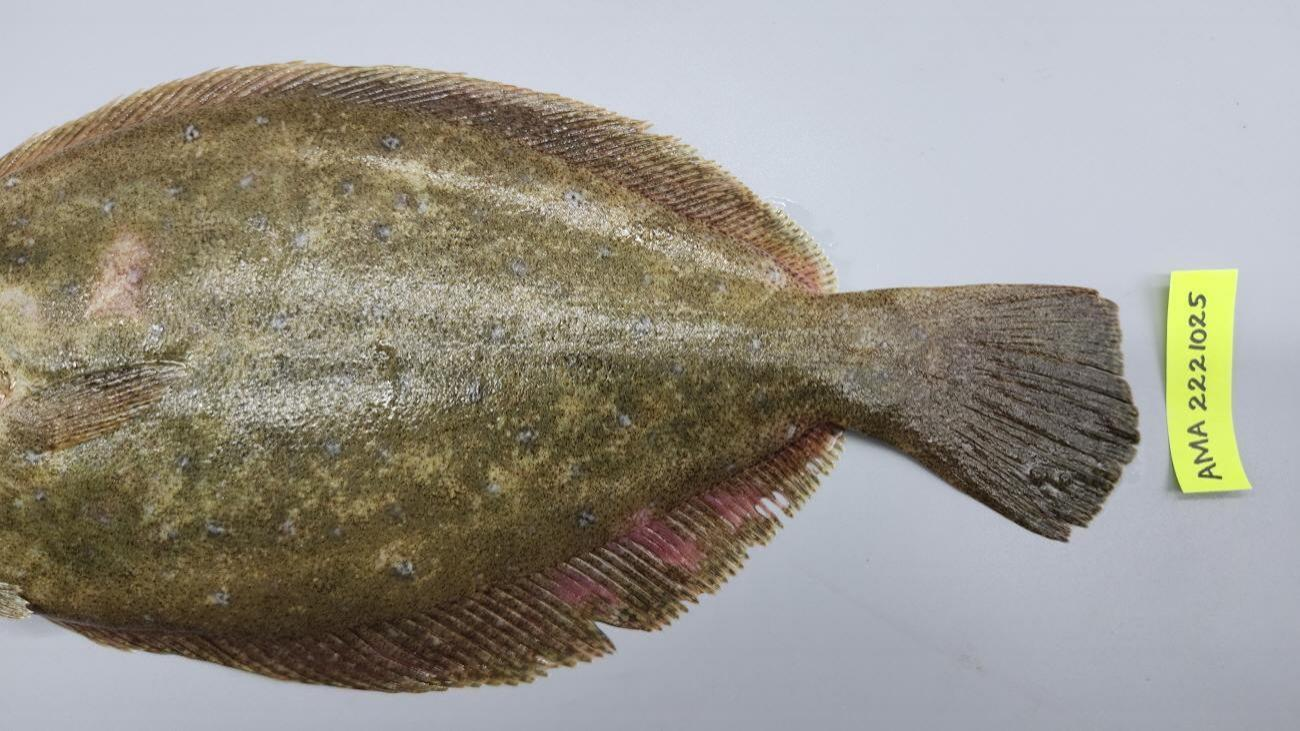MADYU: (82, 223, 160, 325)
